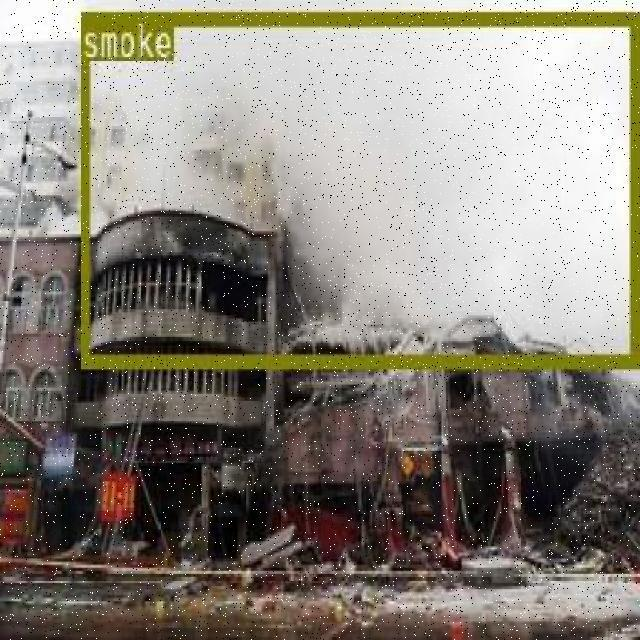Smoke: (77, 0, 636, 299)
